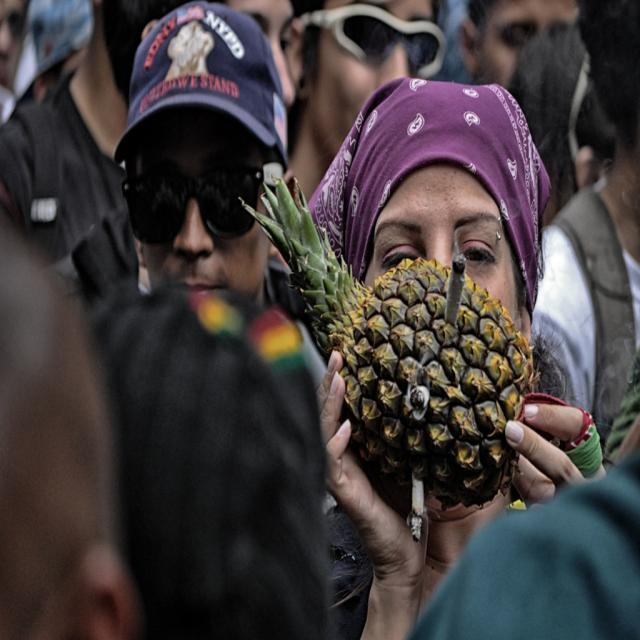Pineapple: (238, 168, 543, 520)
